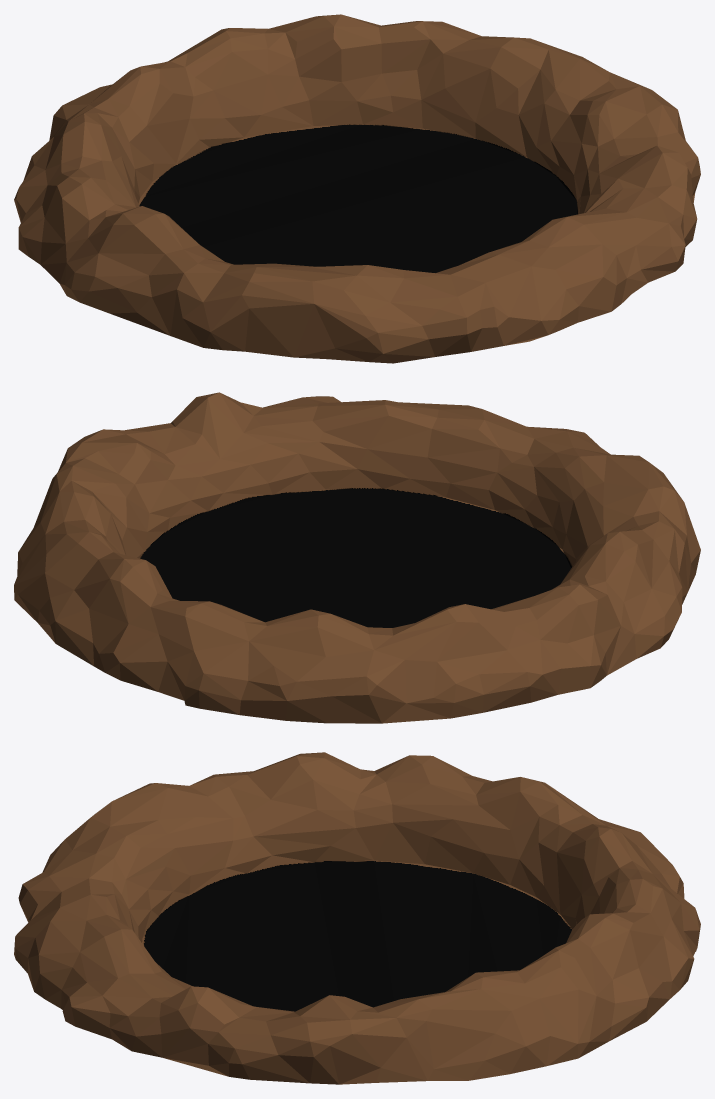
The model's file is Pit-LowPoly.fbx.
3 views of the same model, one above another, from view 1: azimuth 30°, elevation 25°; view 2: azimuth 150°, elevation 25°; view 3: azimuth 270°, elevation 25° (orthographic).
Visible parts, largest first — view 1: Pit; view 2: Pit; view 3: Pit.
Part boxes in pixels (x1,y1,x2,y2): Pit: (14,14,700,363); Pit: (14,392,700,723); Pit: (14,752,700,1084).
Bounding box in the file's own units: 125 × 17.59 × 125.
